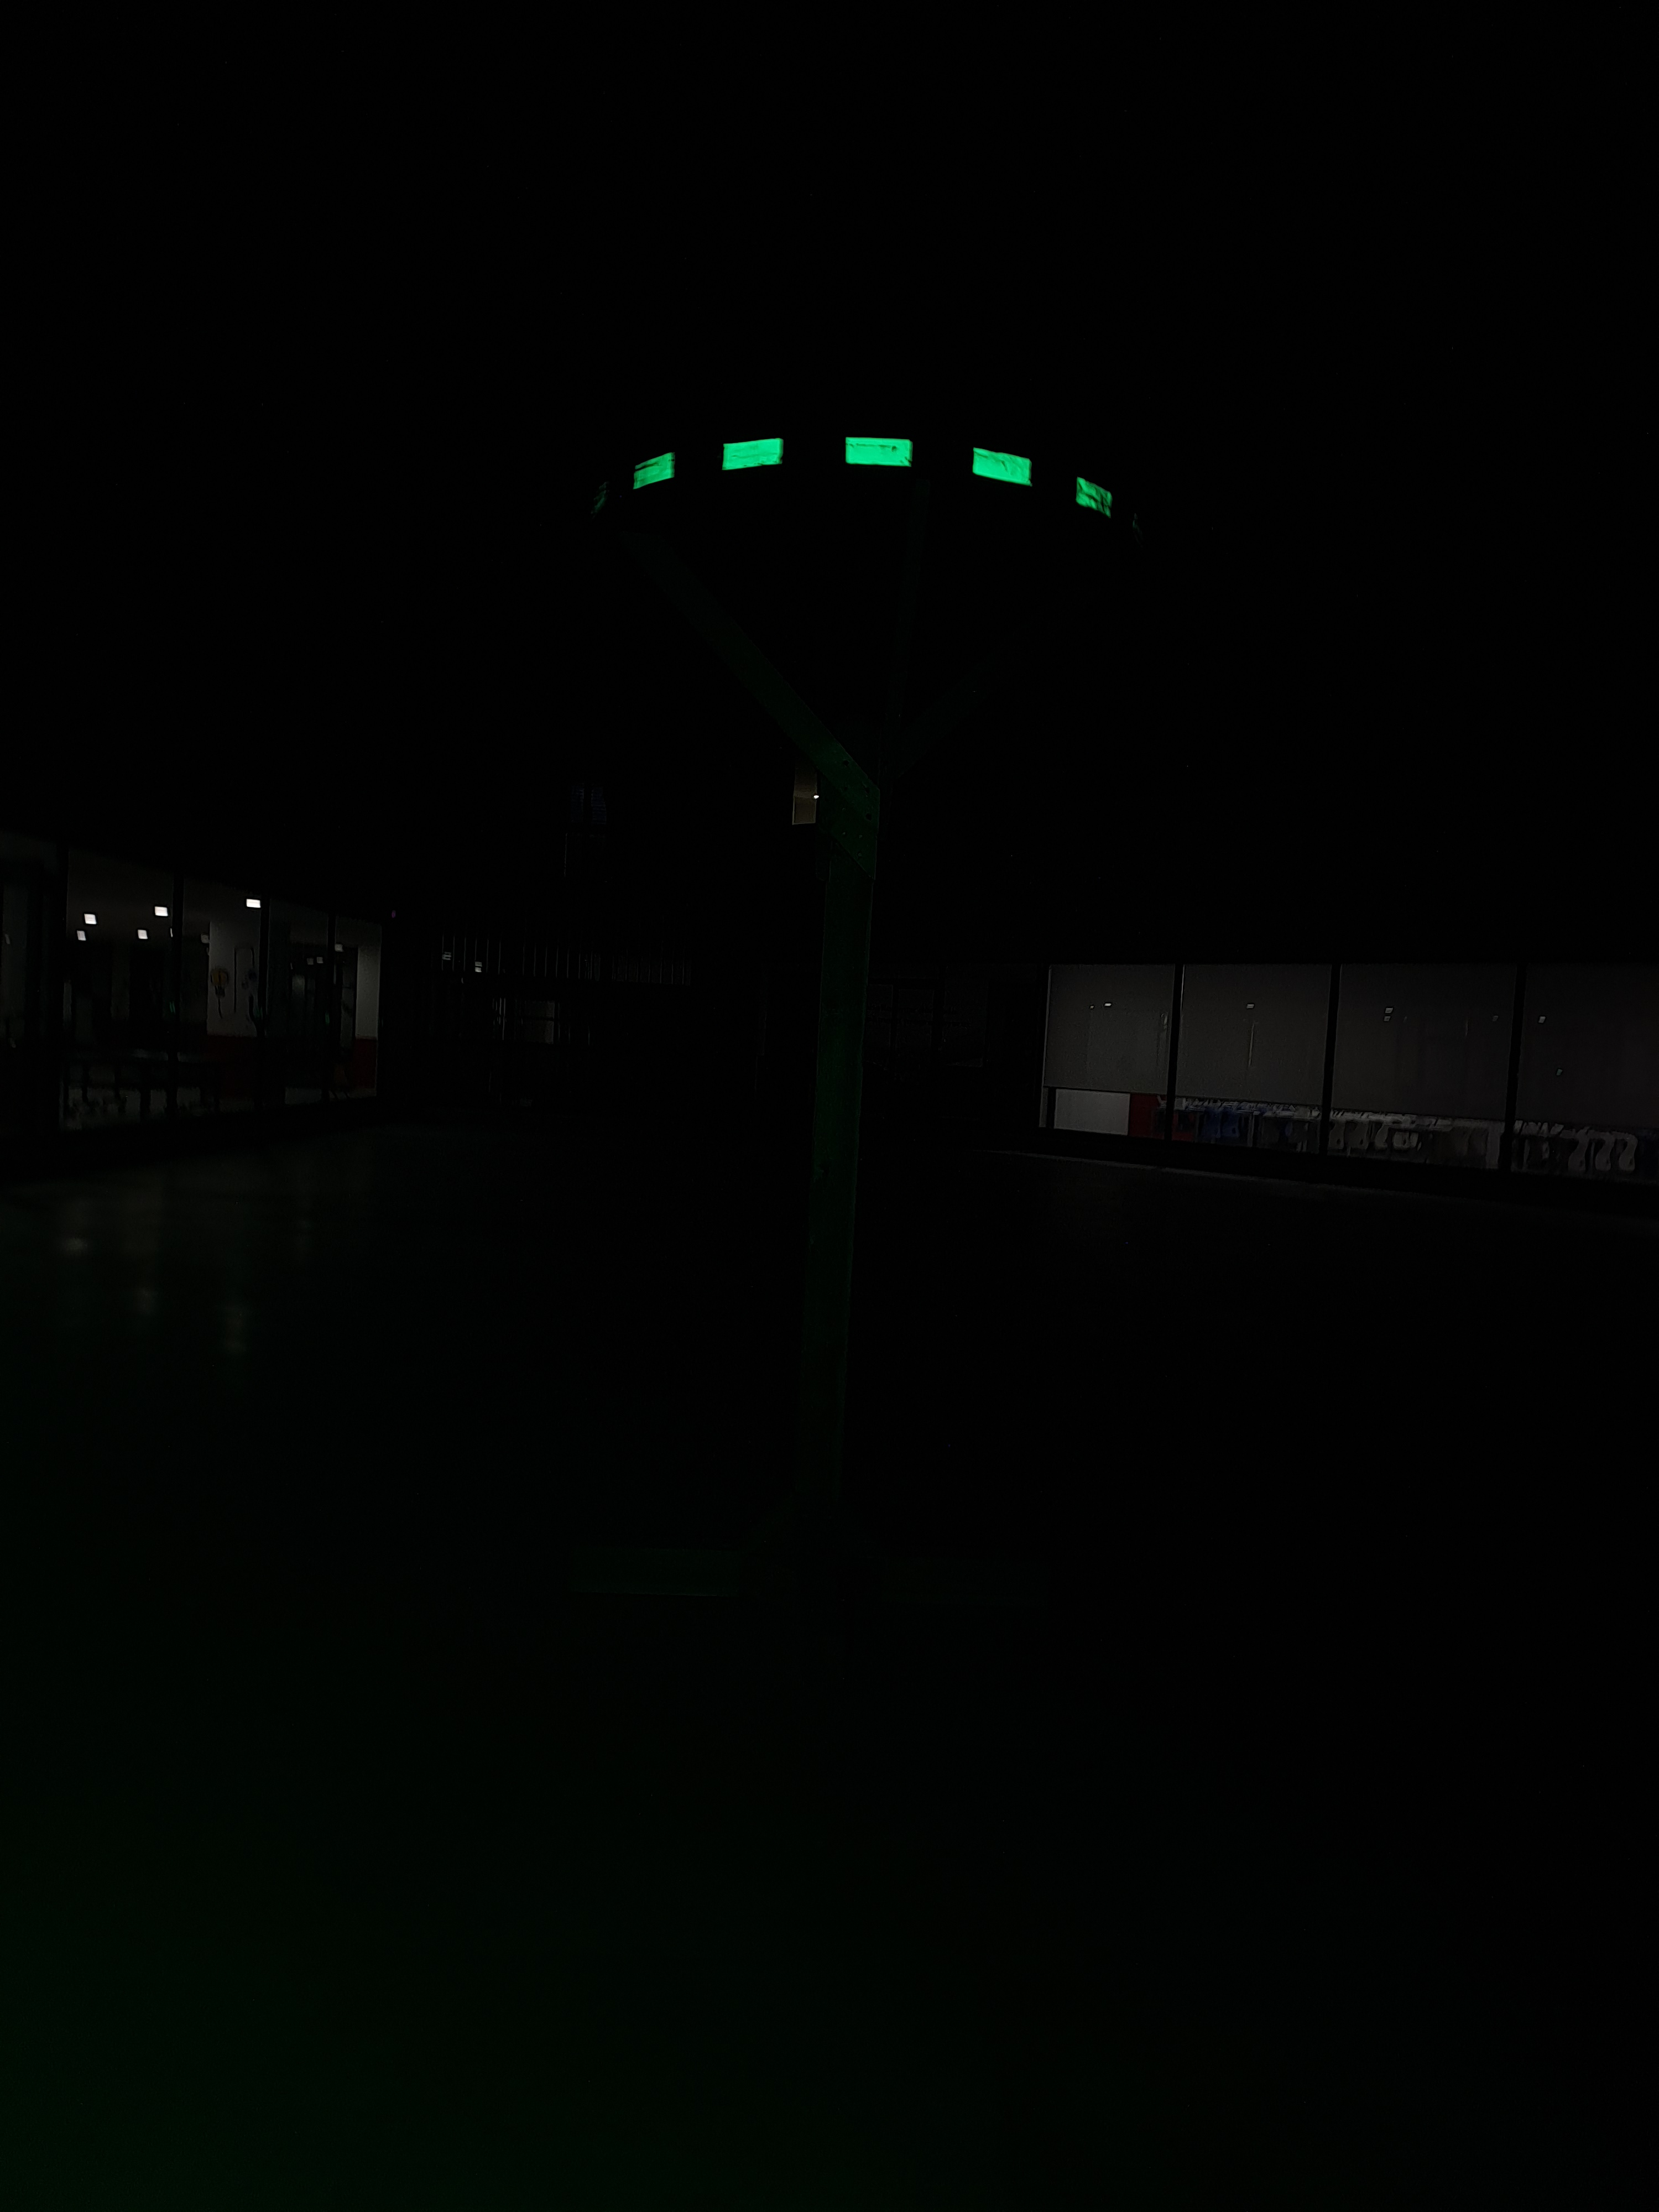hoop: (629, 416, 1112, 526)
